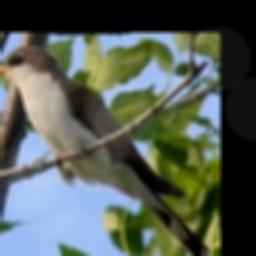Cuckoo: (0, 46, 220, 256)
